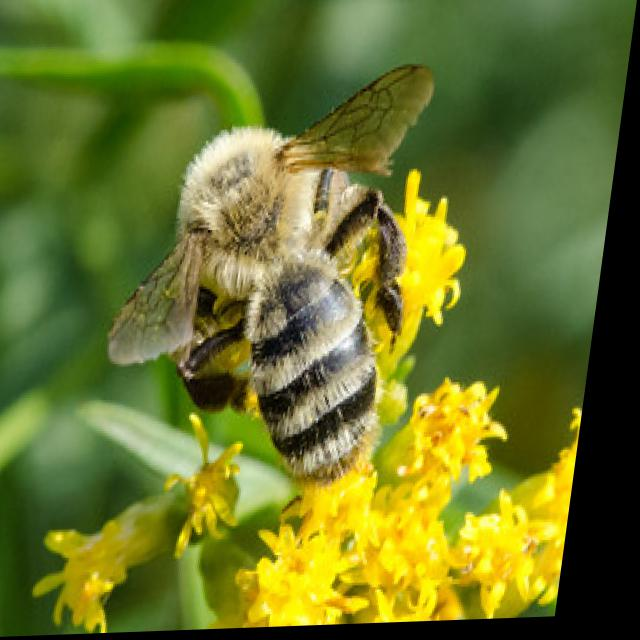Abeille: (116, 49, 486, 529)
